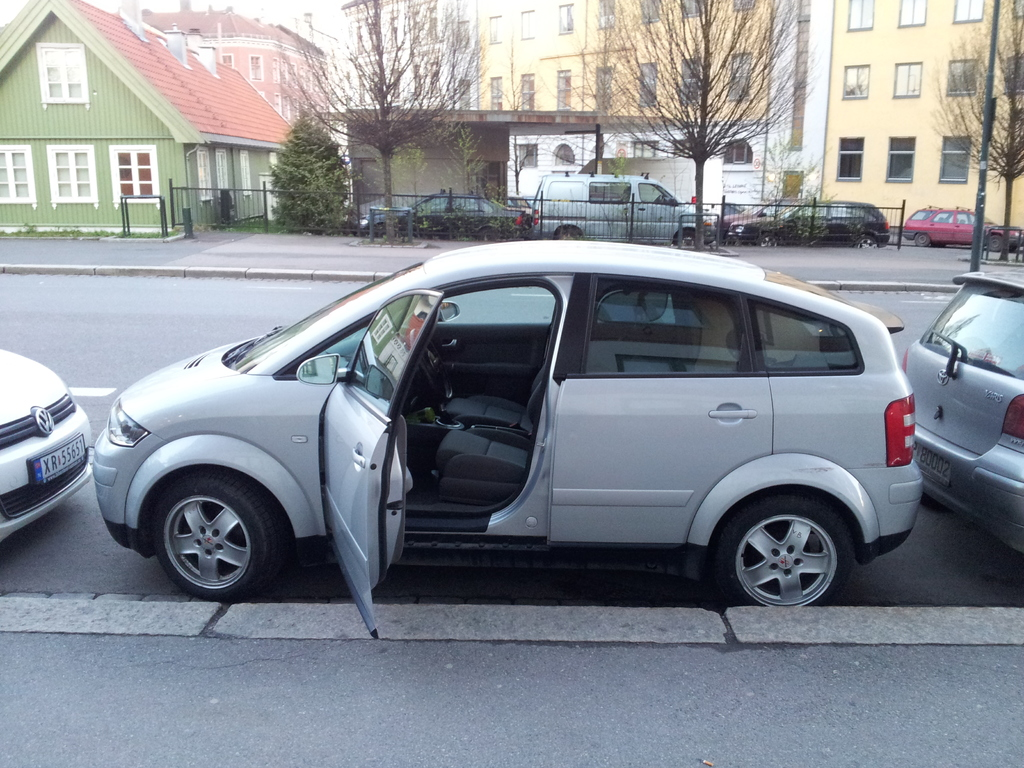Car: (94, 239, 920, 609), (908, 271, 1023, 558), (0, 346, 99, 542), (732, 195, 889, 249), (366, 192, 524, 234), (900, 206, 1023, 251), (721, 194, 817, 232)
